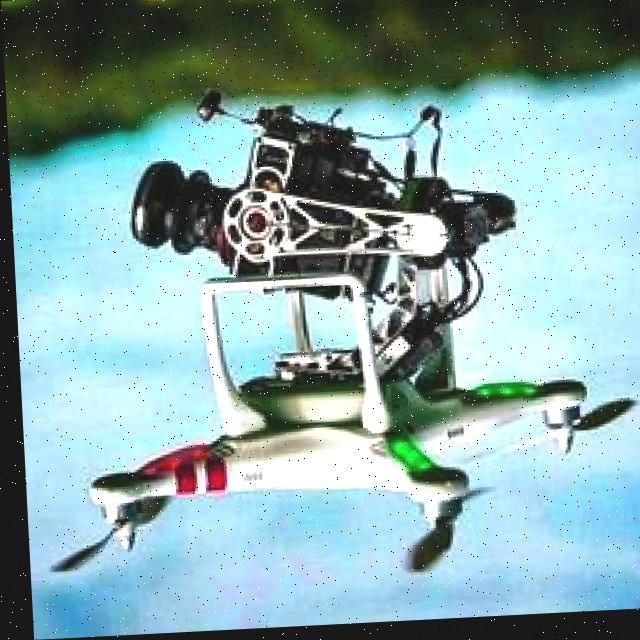drone: (37, 297, 612, 591)
